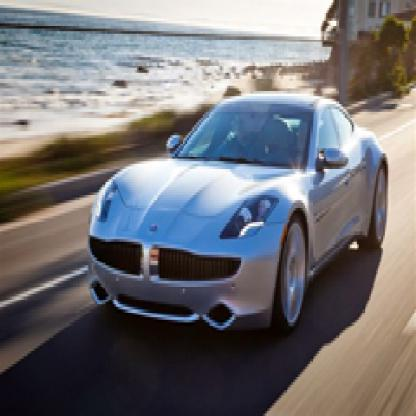Vehicle: (85, 94, 393, 338)
